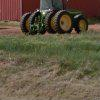Tractor: (13, 6, 89, 37)
